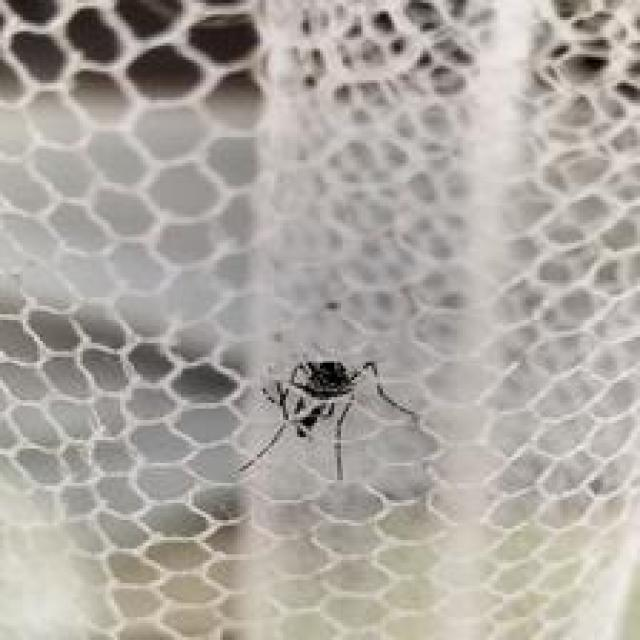Aedes albopictus: (234, 354, 420, 483)
